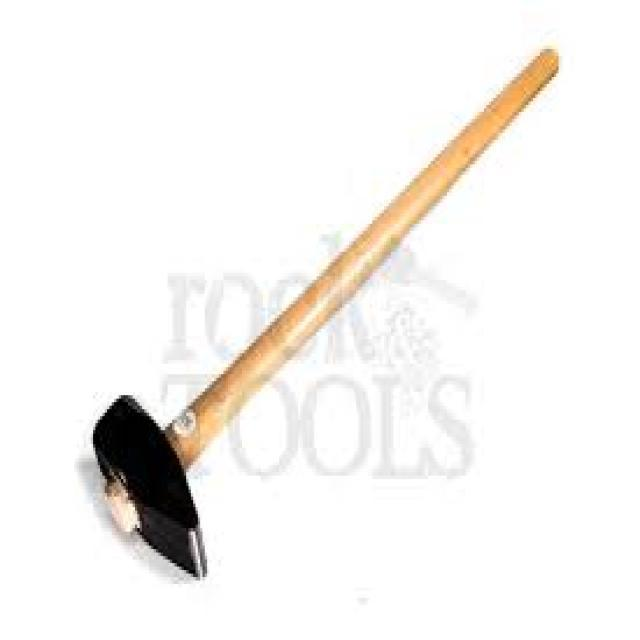Palu: (93, 33, 580, 576)
